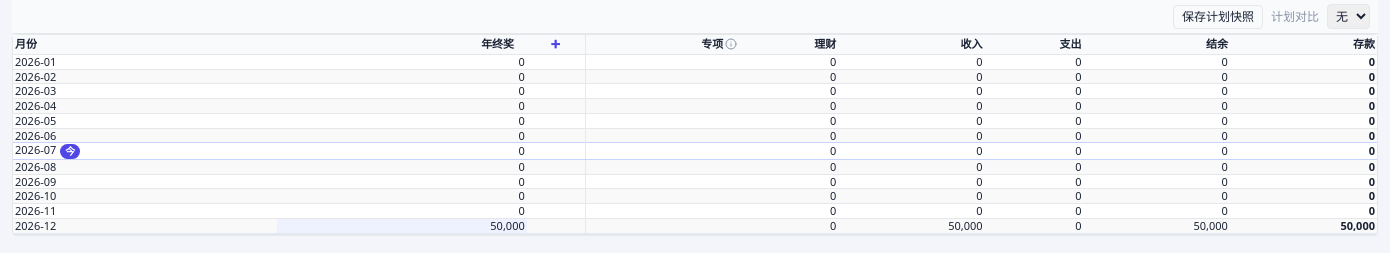
it: MonthlyTable › 右键有直接编辑值的现金流单元格，菜单含「同步到下方每年此月」且启用
Right-click the 1st cell "50,000": (402, 226) [277, 218, 527, 234]
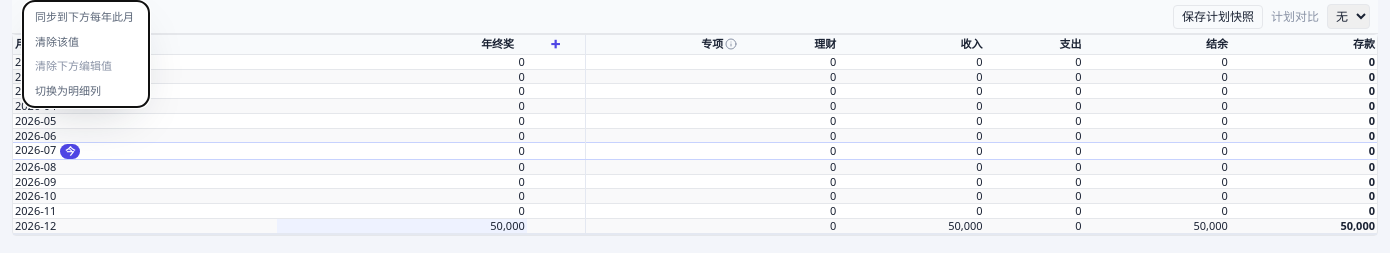
Expected: the menu shows "同步到下方每年此月", [23, 5, 149, 30]
